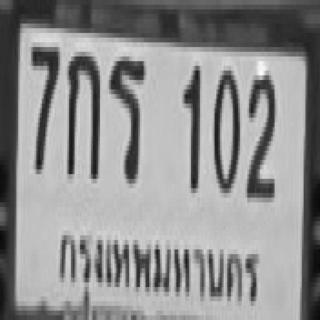A01: (65, 47, 98, 174)
A35: (107, 52, 144, 179)
N00: (213, 66, 238, 188)
N01: (182, 61, 198, 188)
N02: (244, 68, 274, 195)
N07: (29, 42, 58, 170)
P04: (52, 220, 264, 320)
